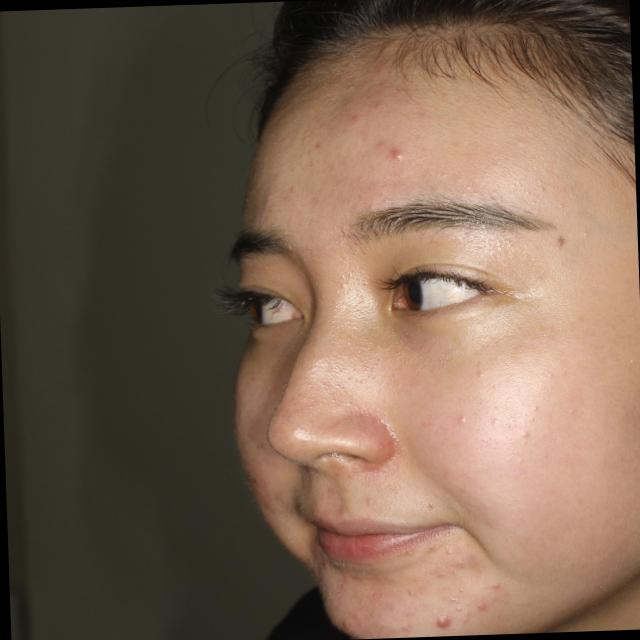blackhead: (558, 238, 563, 245), (428, 505, 432, 508)
nodule: (436, 615, 449, 628), (392, 150, 404, 160)
